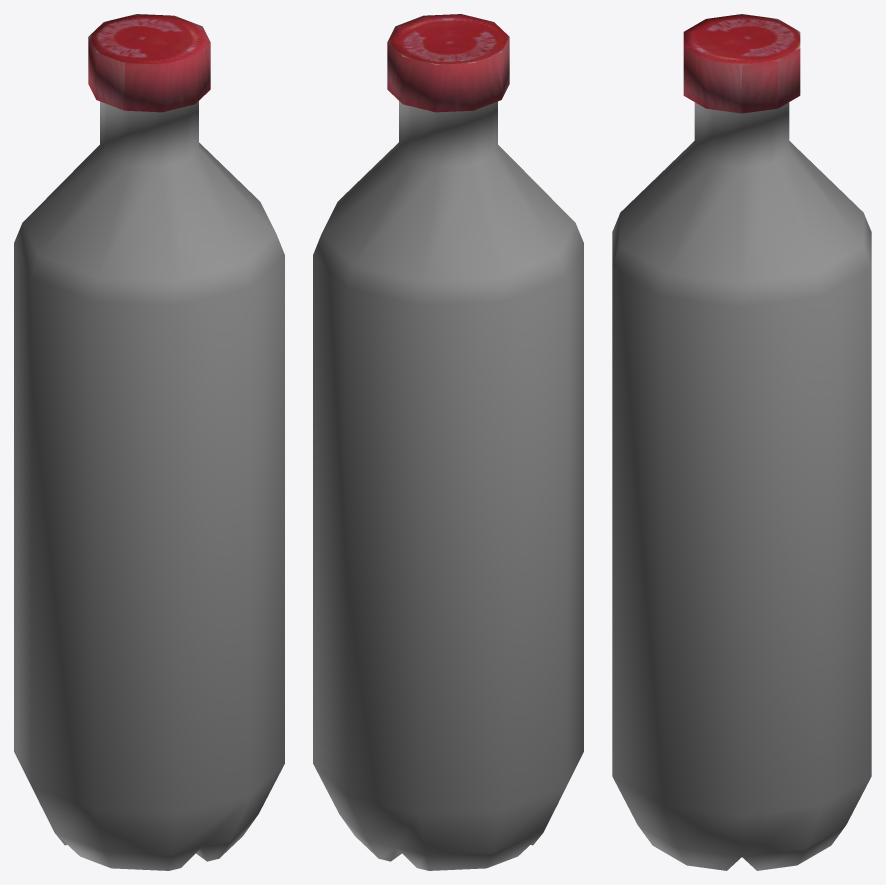
Rendered from piss_bottle.FBX.
The picture shows the model from 3 angles, left to right: view 1: azimuth 30°, elevation 25°; view 2: azimuth 150°, elevation 25°; view 3: azimuth 270°, elevation 25°; orthographic projection.
Parts seen in each view (by area): view 1: bottle; view 2: bottle; view 3: bottle.
Part boxes in pixels (box(x1,y1,x2,y2)): bottle: box(14, 14, 284, 870); bottle: box(313, 14, 583, 870); bottle: box(612, 14, 871, 870).
Size of the model in its own units: 21.18 by 68 by 20.14.
